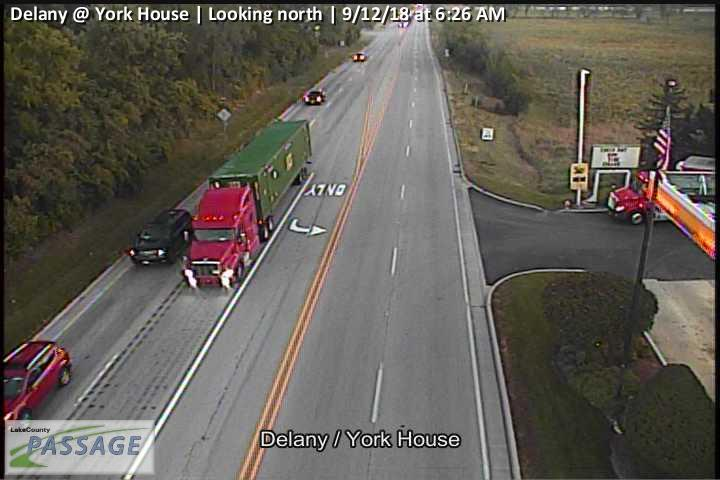SUV: (1, 341, 72, 427), (129, 208, 194, 266), (305, 91, 324, 104)
Sedan: (352, 53, 367, 62)
Truck: (185, 120, 313, 289), (609, 168, 701, 225)
